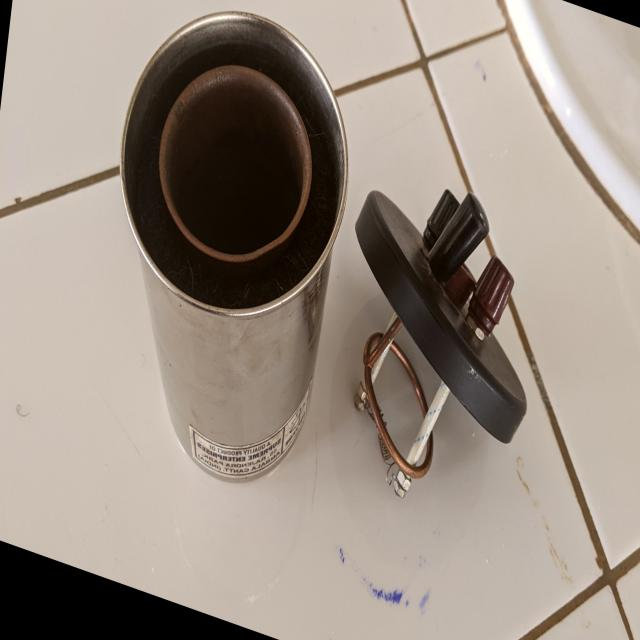Joule-s Calorimeter: (79, 0, 374, 542)
